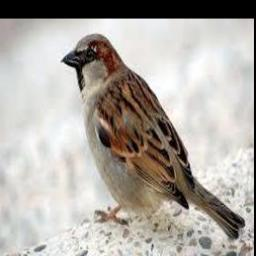Sparrow: (61, 34, 245, 239)
